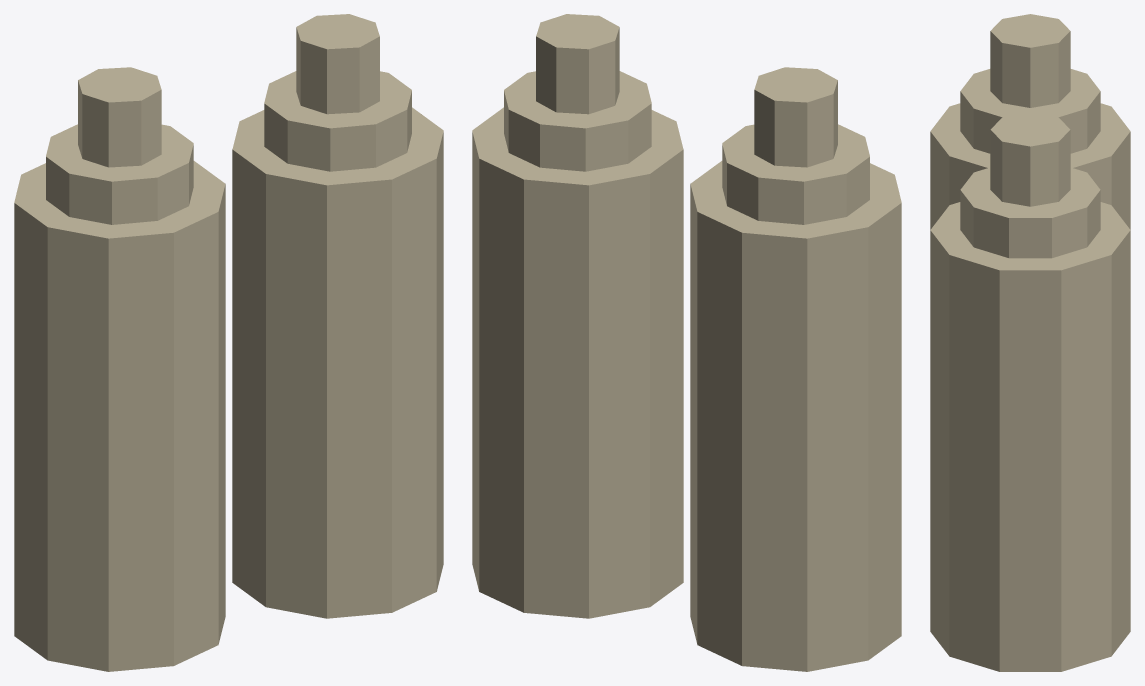
The model's file is set_spray_bottle.glb.
3 views of the same model, side by side, from view 1: azimuth 30°, elevation 25°; view 2: azimuth 150°, elevation 25°; view 3: azimuth 270°, elevation 25° (orthographic). The views are drawn at different scales.
Visible parts, largest first — view 1: set_spray_bottle; view 2: set_spray_bottle; view 3: set_spray_bottle.
Boxes of the visible parts, x1,y1,x2,y2 form: set_spray_bottle: (14,14,443,671); set_spray_bottle: (472,14,901,671); set_spray_bottle: (930,14,1130,671).
Size of the model in its own units: 0.1271 by 0.166 by 0.06.
